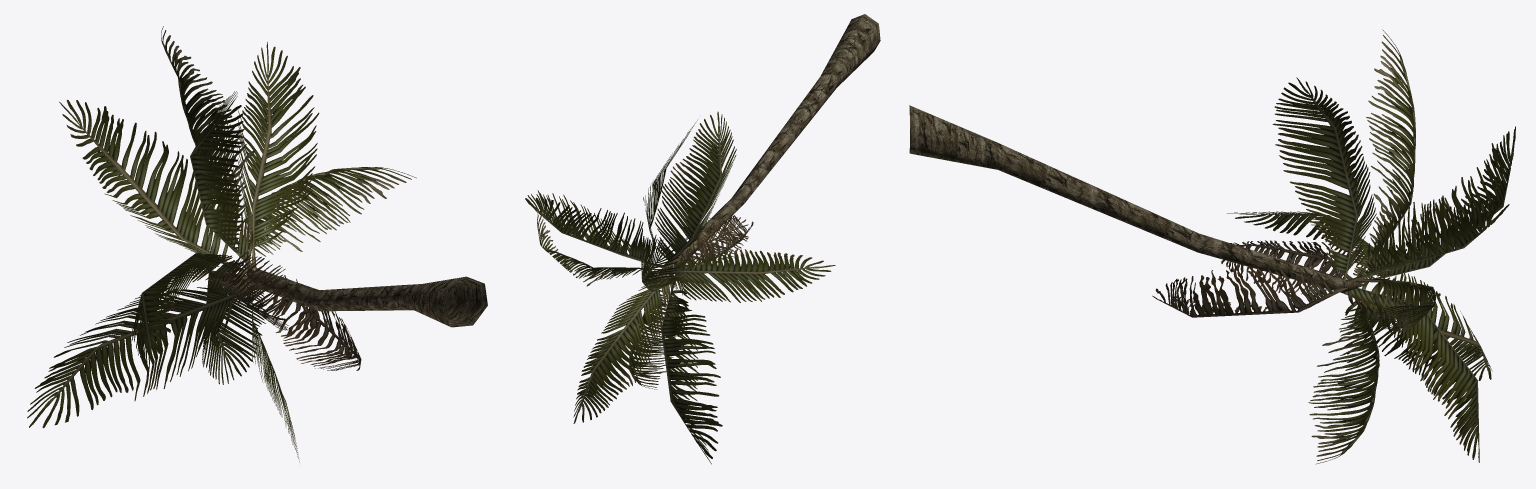
File: MEP_Palm_02_05.fbx
The picture shows the model from 3 angles, left to right: view 1: azimuth 30°, elevation 25°; view 2: azimuth 150°, elevation 25°; view 3: azimuth 270°, elevation 25°; orthographic projection. The views are drawn at different scales.
Visible parts, largest first — view 1: MEP_Palm_Leafs_05, Palm_Trunk_05; view 2: MEP_Palm_Leafs_05, Palm_Trunk_05; view 3: MEP_Palm_Leafs_05, Palm_Trunk_05.
Part boxes in pixels (x1=…): MEP_Palm_Leafs_05: x1=27, y1=26, x2=416, y2=461; Palm_Trunk_05: x1=244, y1=267, x2=487, y2=327; MEP_Palm_Leafs_05: x1=525, y1=111, x2=835, y2=464; Palm_Trunk_05: x1=659, y1=14, x2=880, y2=275; MEP_Palm_Leafs_05: x1=1152, y1=29, x2=1515, y2=464; Palm_Trunk_05: x1=909, y1=105, x2=1365, y2=292.
Size of the model in its own units: 5.5 by 6.87 by 9.26.
